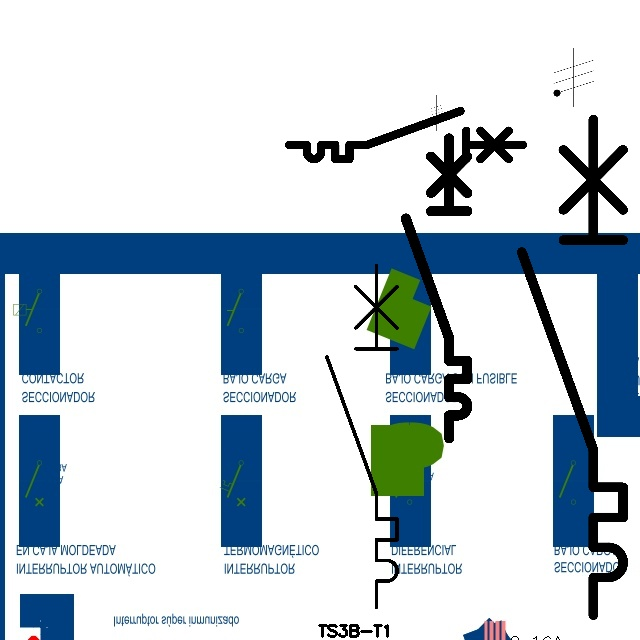interruptor_termomagnetico: (509, 106, 636, 627), (318, 257, 406, 616), (398, 130, 475, 445), (283, 105, 529, 165)
